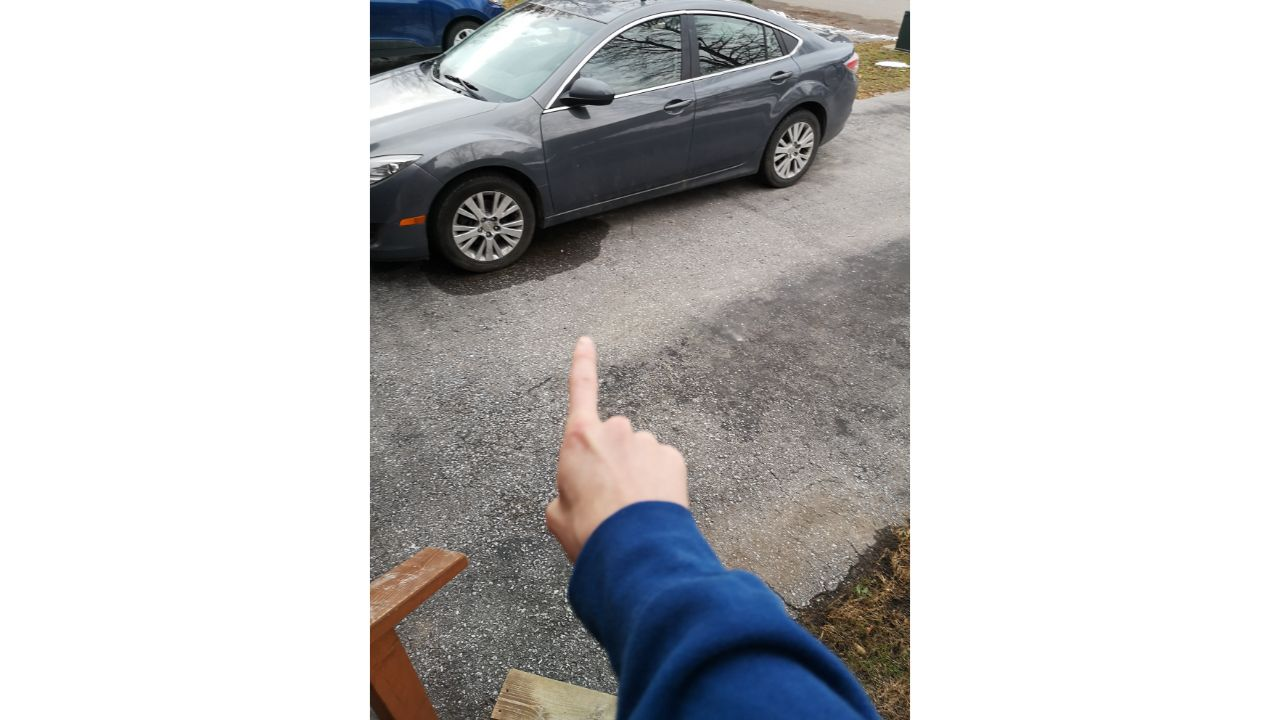car: (373, 2, 862, 233)
finger: (550, 319, 717, 619)
